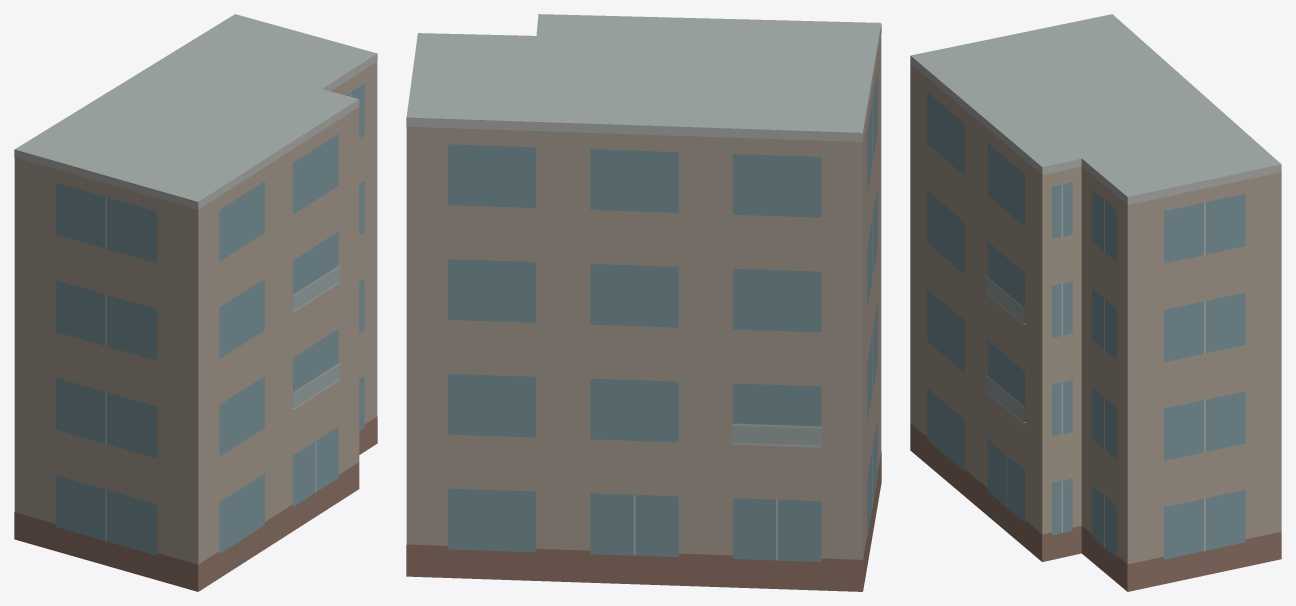
Rendered from survey-upis-32661623.glb.
The picture shows the model from 3 angles, left to right: view 1: azimuth 30°, elevation 25°; view 2: azimuth 150°, elevation 25°; view 3: azimuth 270°, elevation 25°; orthographic projection. The views are drawn at different scales.
Visible parts, largest first — view 1: survey-upis-32661623.tmp; view 2: survey-upis-32661623.tmp; view 3: survey-upis-32661623.tmp.
Part boxes in pixels (x1,y1,x2,y2): survey-upis-32661623.tmp: (14,14,377,591); survey-upis-32661623.tmp: (406,14,881,591); survey-upis-32661623.tmp: (910,14,1281,591).
Bounding box in the file's own units: 12.14 × 12.2 × 10.41.
